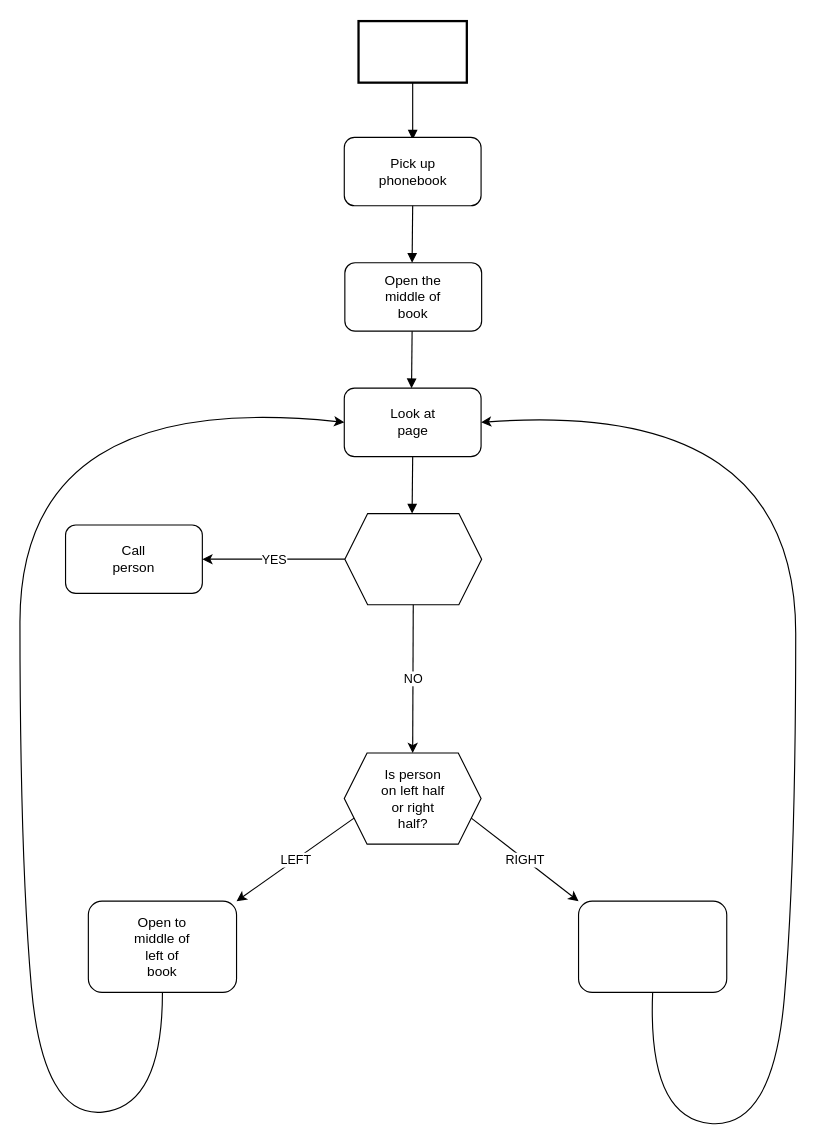
This 816x1143 diagram has some shape labels left out. The centre of each missing label's shape, as x and y in pixels:
"Is person on the page?" goes at (x=413, y=558).
"Open to middle of right of book" goes at (x=652, y=946).
"Start" goes at (x=412, y=51).
